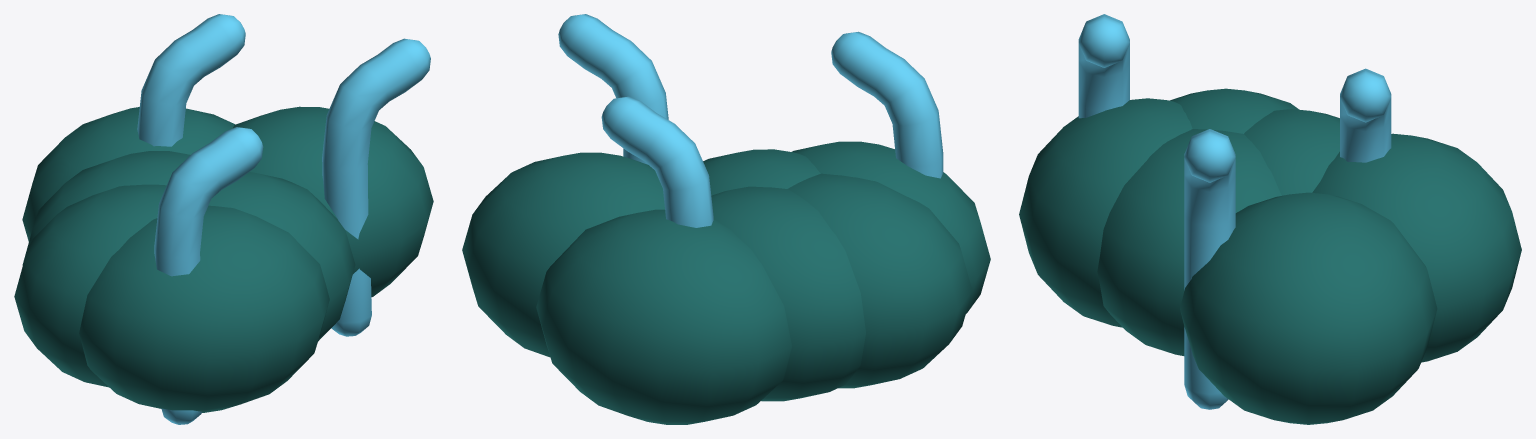
File: moss_crop_budding.glb
3 views of the same model, side by side, from view 1: azimuth 30°, elevation 25°; view 2: azimuth 150°, elevation 25°; view 3: azimuth 270°, elevation 25° (orthographic). The views are drawn at different scales.
Parts seen in each view (by area): view 1: Mound.001, Mound.005, Mound.004, Curved_shoot, Curved_shoot.001, Mound, Curved_shoot.002, Mound.002, Mound.007; view 2: Mound.002, Mound.004, Mound.005, Mound.007, Curved_shoot.001, Mound.001, Curved_shoot.002, Curved_shoot, Mound; view 3: Mound.005, Mound.002, Mound.001, Mound, Curved_shoot, Mound.007, Curved_shoot.001, Curved_shoot.002, Mound.004.
Boxes of the visible parts, box(x1,y1,x2,y2) form: Mound.001: box(79, 205, 329, 412); Mound.005: box(233, 106, 433, 297); Mound.004: box(14, 184, 166, 387); Curved_shoot: box(322, 38, 430, 336); Curved_shoot.001: box(154, 127, 263, 424); Mound: box(208, 172, 355, 341); Curved_shoot.002: box(137, 14, 245, 146); Mound.002: box(22, 107, 235, 241); Mound.007: box(22, 151, 189, 265); Mound.002: box(536, 209, 791, 424); Mound.004: box(788, 173, 972, 388); Mound.005: box(462, 152, 664, 357); Mound.007: box(711, 186, 865, 401); Curved_shoot.001: box(831, 31, 943, 178); Mound.001: box(792, 141, 990, 313); Curved_shoot.002: box(601, 96, 713, 227); Curved_shoot: box(558, 14, 668, 164); Mound: box(703, 149, 820, 195); Mound.005: box(1180, 192, 1437, 424); Mound.002: box(1312, 133, 1521, 362); Mound.001: box(1019, 98, 1192, 327); Mound: box(1097, 129, 1281, 355); Curved_shoot: box(1184, 129, 1235, 409); Mound.007: box(1244, 109, 1339, 195); Curved_shoot.001: box(1078, 14, 1129, 118); Curved_shoot.002: box(1340, 68, 1391, 162); Mound.004: box(1170, 88, 1298, 133).
Bounding box in the file's own units: 0.4698 × 0.2943 × 0.4374.
